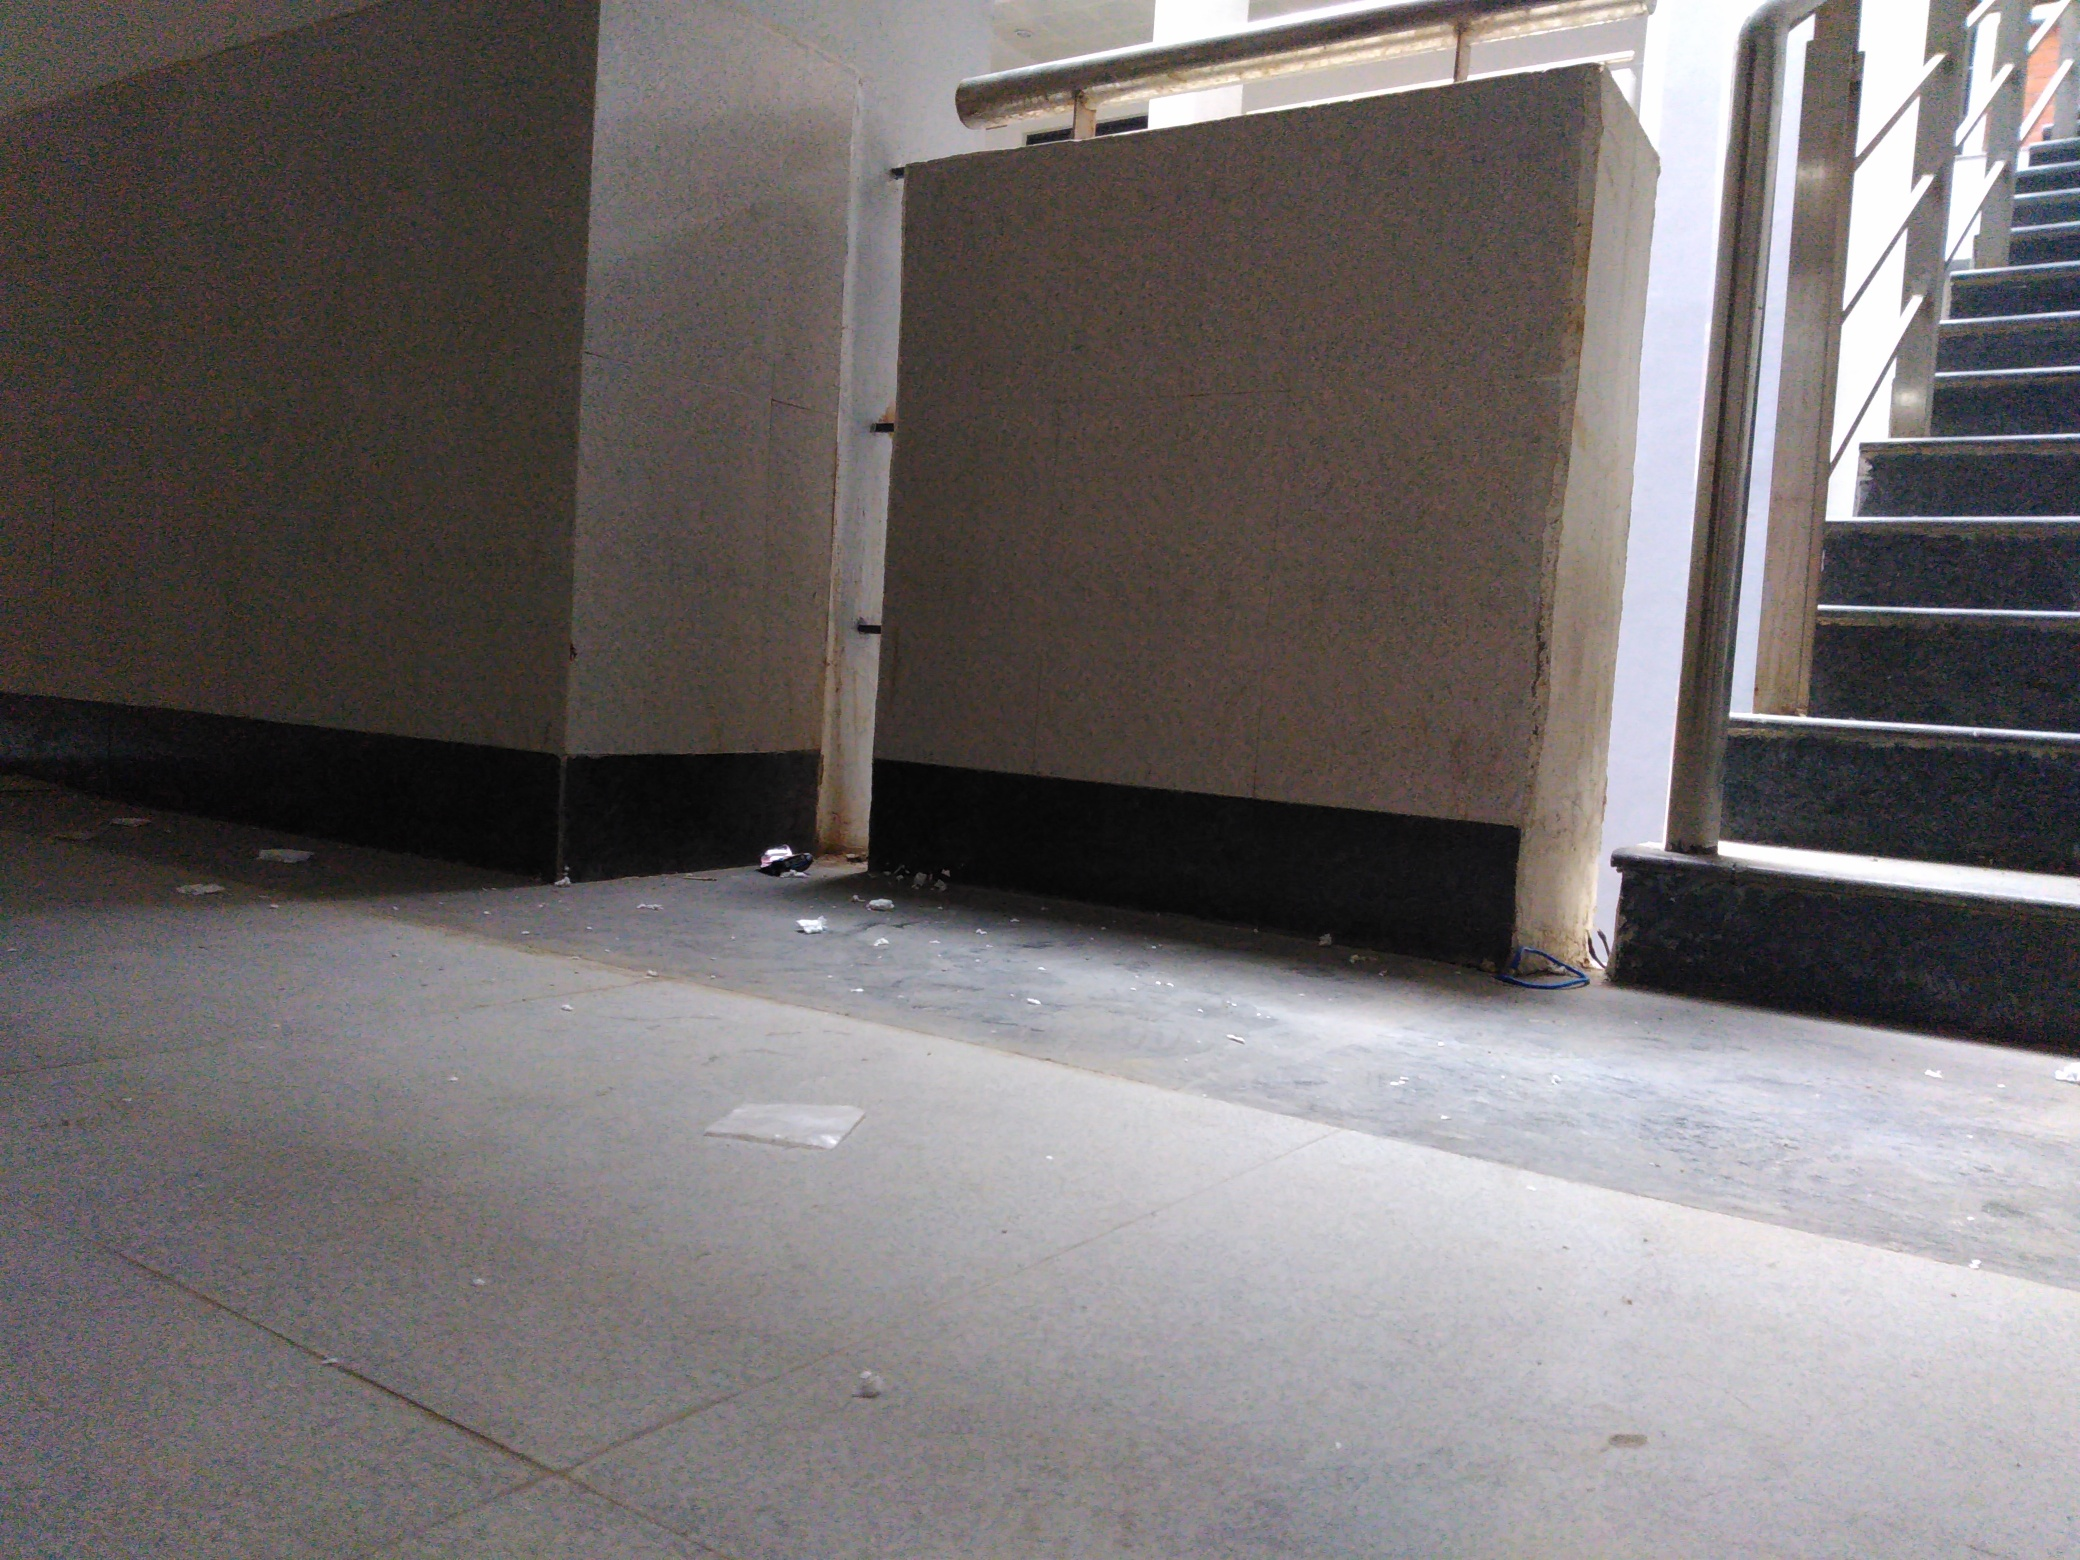stairs_up: (1743, 92, 2080, 1070)
